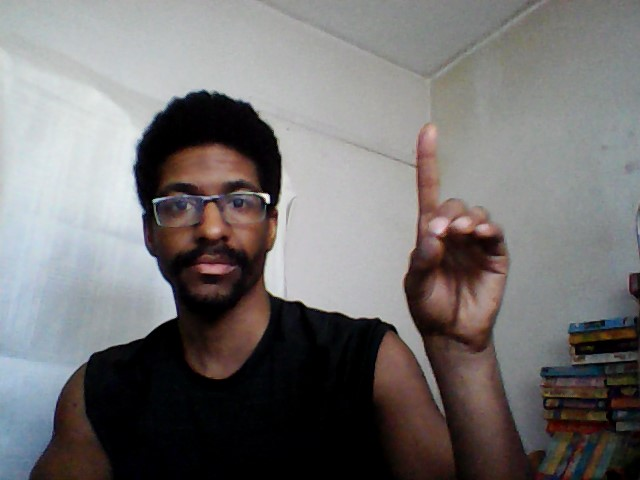d: (401, 117, 516, 338)
